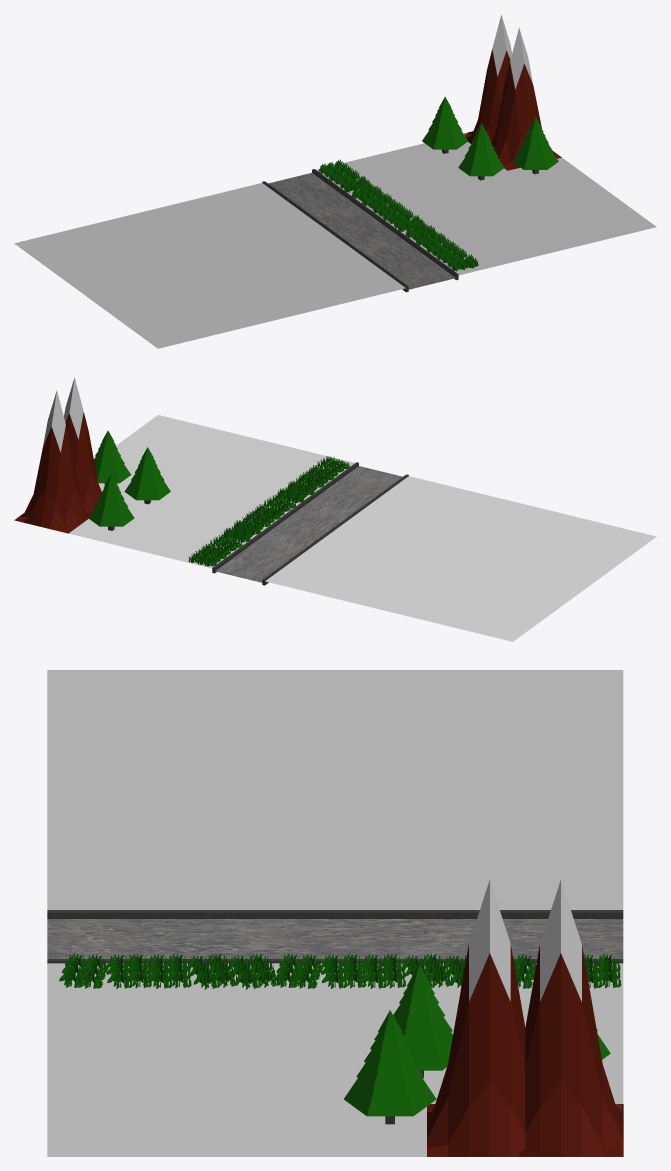
File: Module_4_SM.FBX
3 views of the same model, one above another, from view 1: azimuth 30°, elevation 25°; view 2: azimuth 150°, elevation 25°; view 3: azimuth 270°, elevation 25° (orthographic). The views are drawn at different scales.
Visible parts, largest first — view 1: Module_4_SM_LOD0; view 2: Module_4_SM_LOD0; view 3: Module_4_SM_LOD0.
Boxes of the visible parts, left/top/right/bottom form: Module_4_SM_LOD0: left=14, top=15, right=656, bottom=348; Module_4_SM_LOD0: left=14, top=377, right=656, bottom=641; Module_4_SM_LOD0: left=47, top=670, right=623, bottom=1156.
Bounding box in the file's own units: 10001 × 5005 × 2484.
